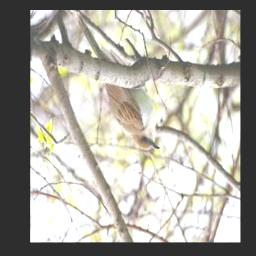Cuckoo: (74, 10, 161, 151)
